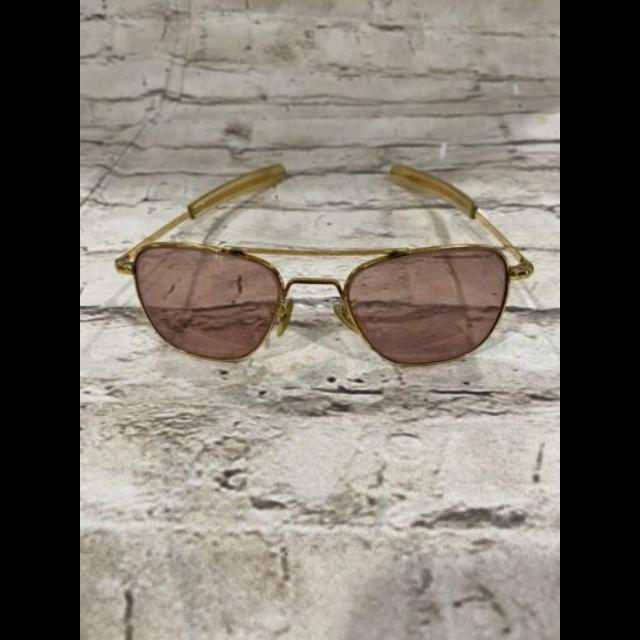sunglasses: (116, 162, 534, 368)
